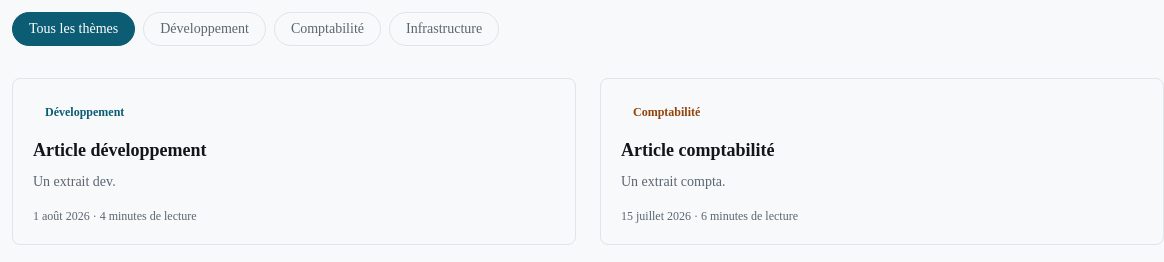
Test case: BlogFilter › affiche l'état vide quand aucun article ne correspond au thème sélectionné
Click the button "Infrastructure".
click(444, 29)  # box [389,12,499,46]
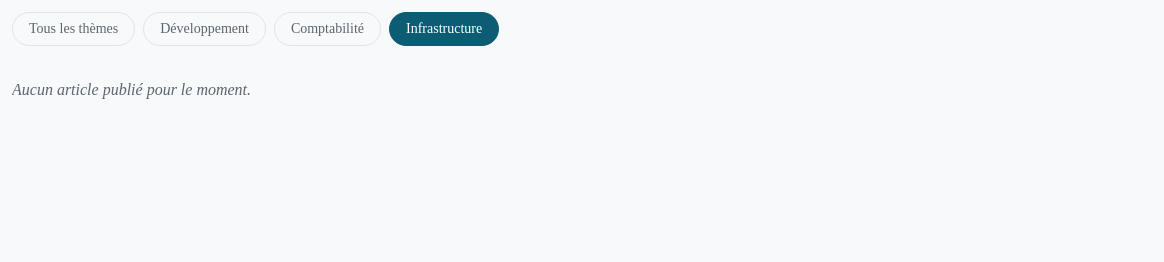
expect the text "Aucun article publié pour le moment." is shown: met, box [12,81,251,98]
